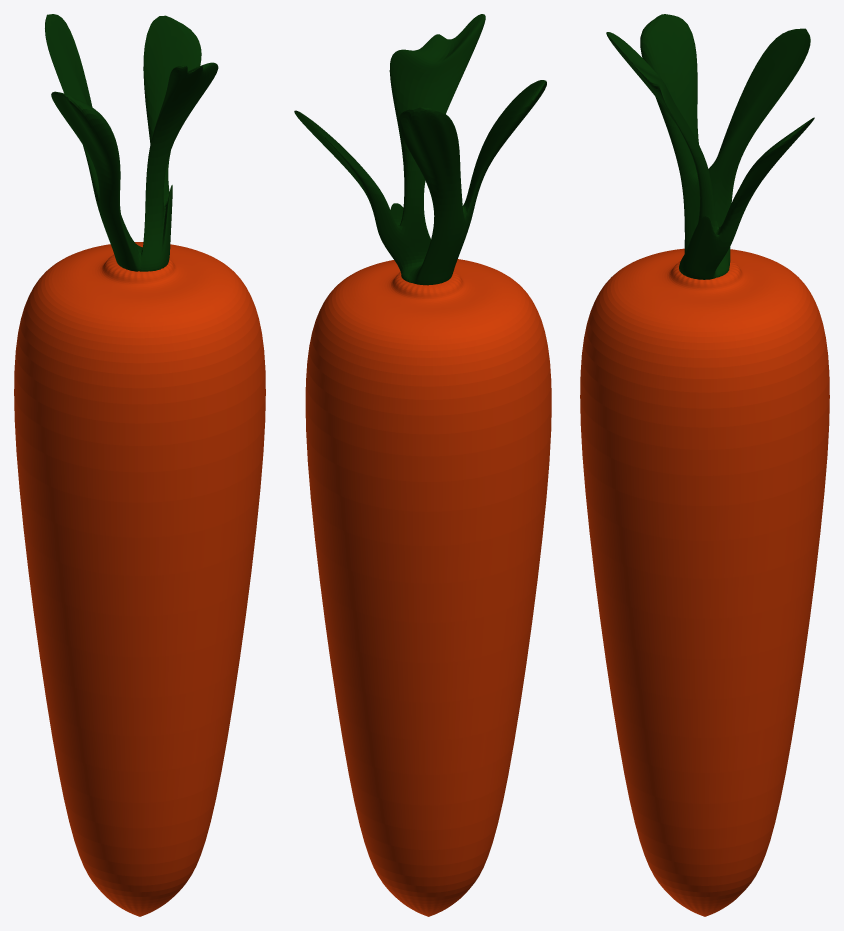
File: zanahoria.obj
3 renders of one model, left to right at view 1: azimuth 30°, elevation 25°; view 2: azimuth 150°, elevation 25°; view 3: azimuth 270°, elevation 25°, orthographic. The views are drawn at different scales.
Parts seen in each view (by area): view 1: Cone, Cylinder; view 2: Cone, Cylinder; view 3: Cone, Cylinder.
Boxes of the visible parts, <box> form: Cone: <box>14,242,265,916</box>; Cylinder: <box>45,14,218,271</box>; Cone: <box>305,259,551,916</box>; Cylinder: <box>294,14,546,285</box>; Cone: <box>580,248,829,916</box>; Cylinder: <box>606,14,814,279</box>.
Size of the model in its own units: 1.33 by 5.19 by 1.33.
